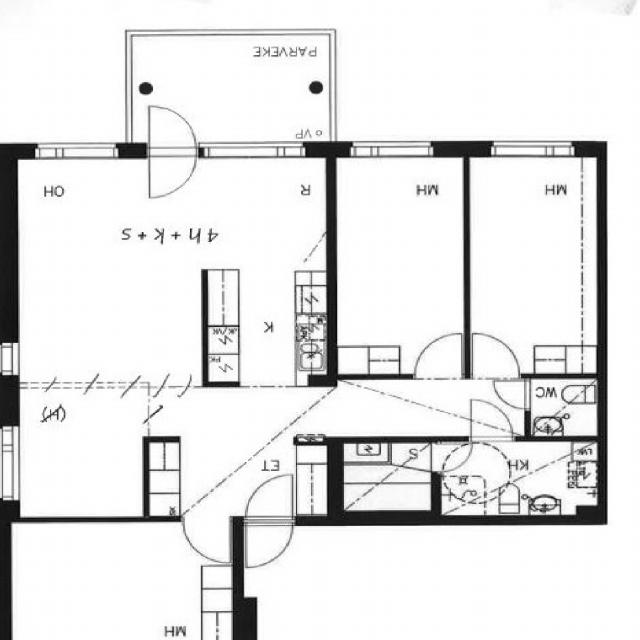door: (149, 142, 196, 200), (149, 99, 196, 157), (246, 475, 293, 527), (246, 518, 293, 568), (183, 518, 230, 564), (473, 333, 520, 379), (413, 333, 460, 379), (471, 400, 513, 443), (431, 445, 471, 473), (494, 383, 532, 410)
